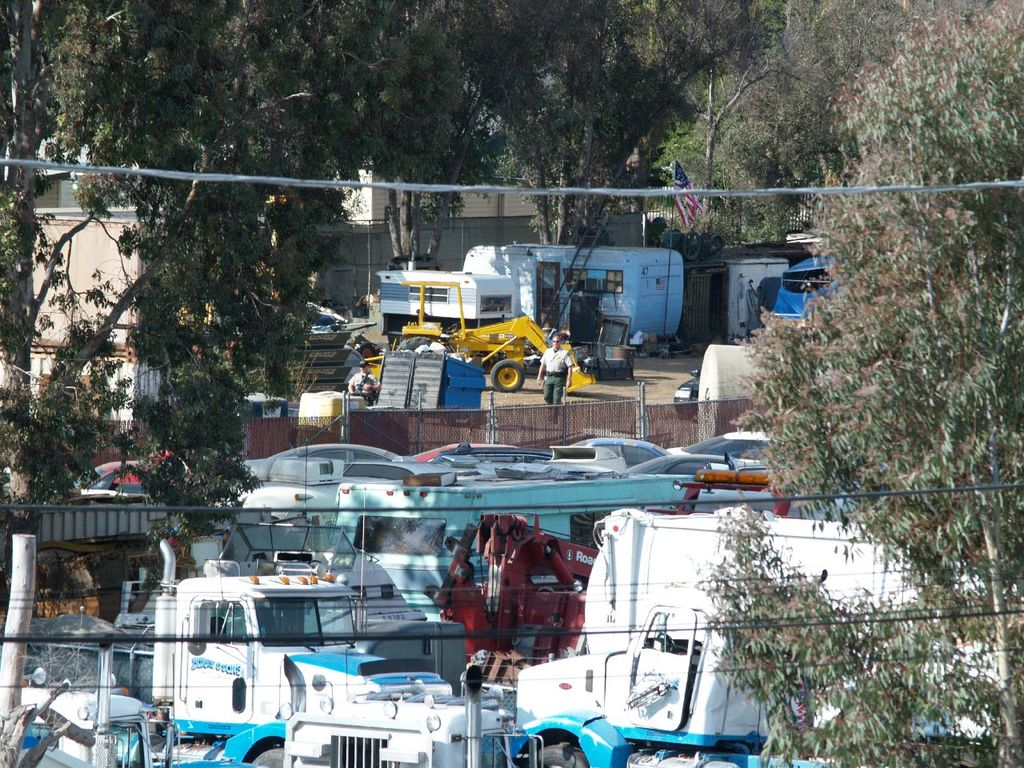Tree: (677, 0, 1023, 767), (0, 0, 321, 406), (227, 0, 456, 306), (461, 0, 673, 255), (137, 408, 291, 591), (0, 409, 123, 634)
